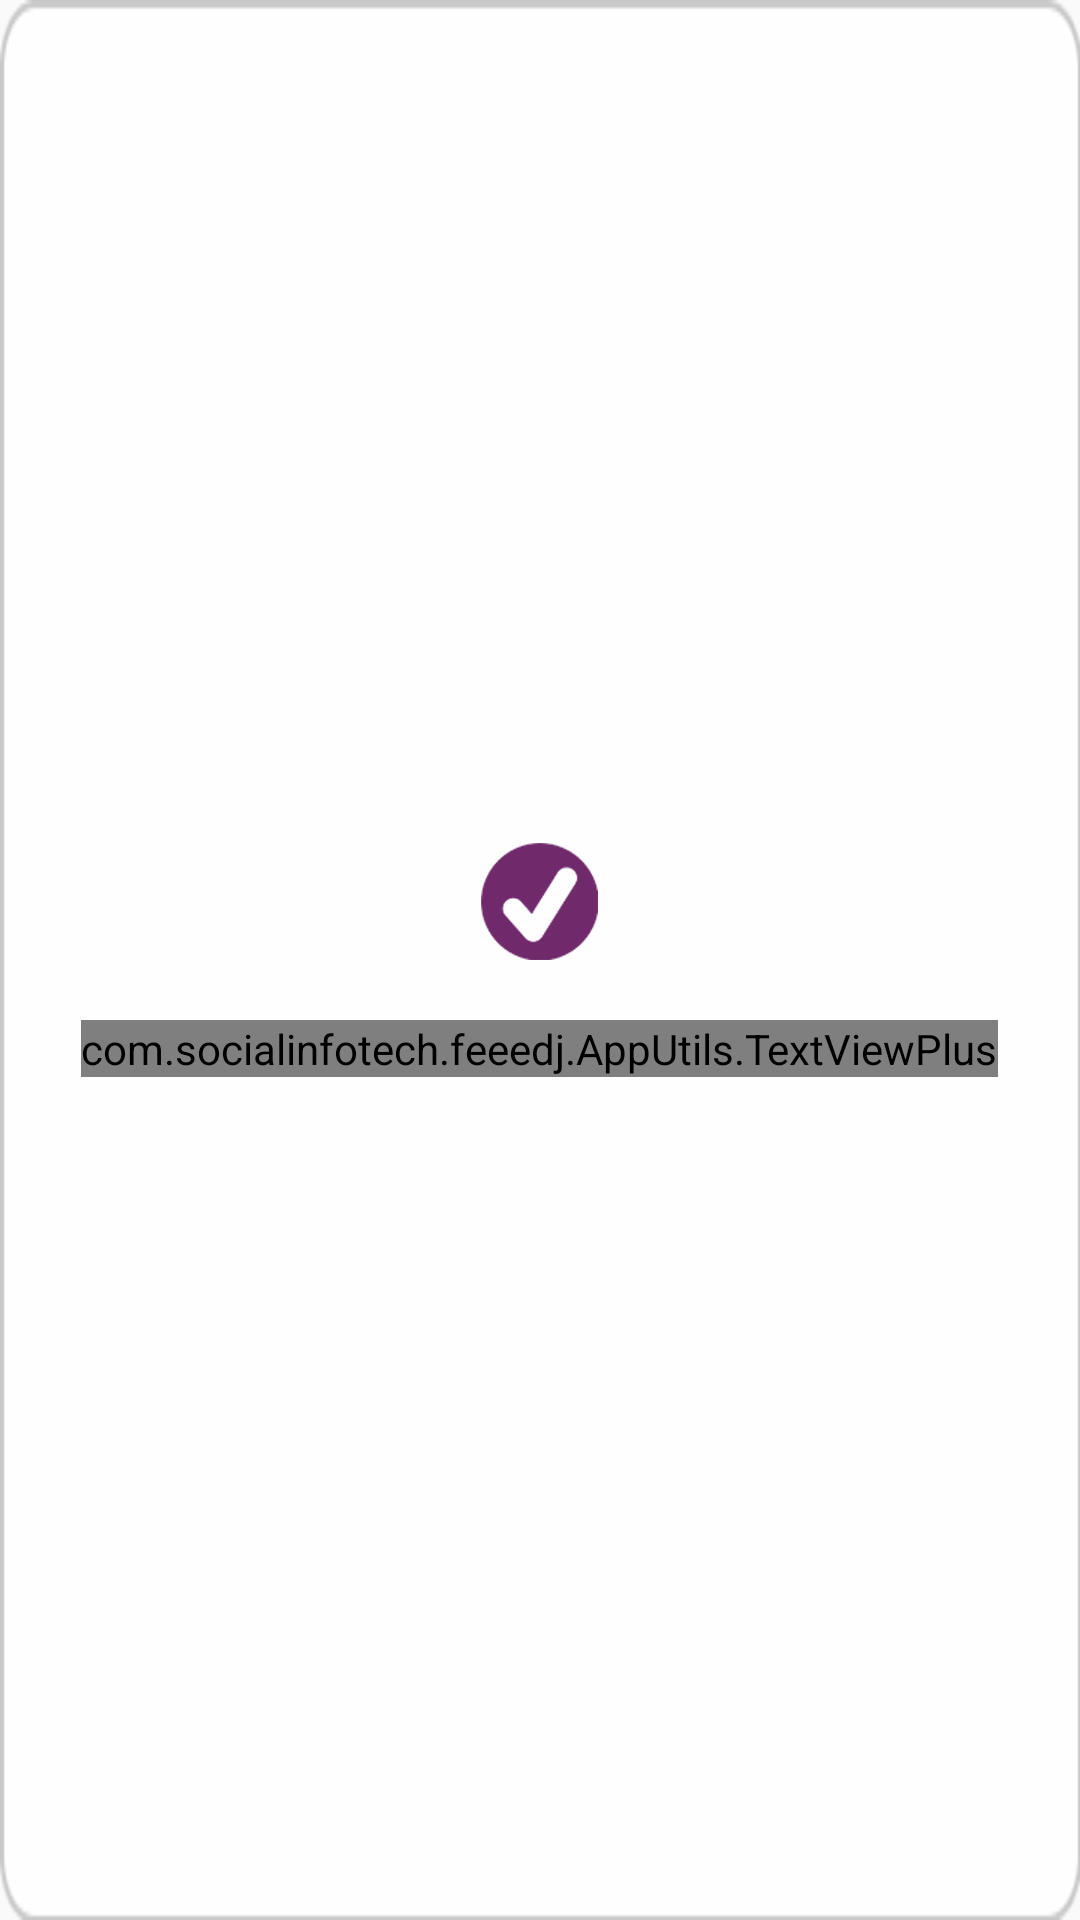

Locate icon controls on the screen. Image size 1080px×1920px, boxes as [x1, y1, x2, y2].
company details notifications confirmation: [481, 843, 598, 960]
